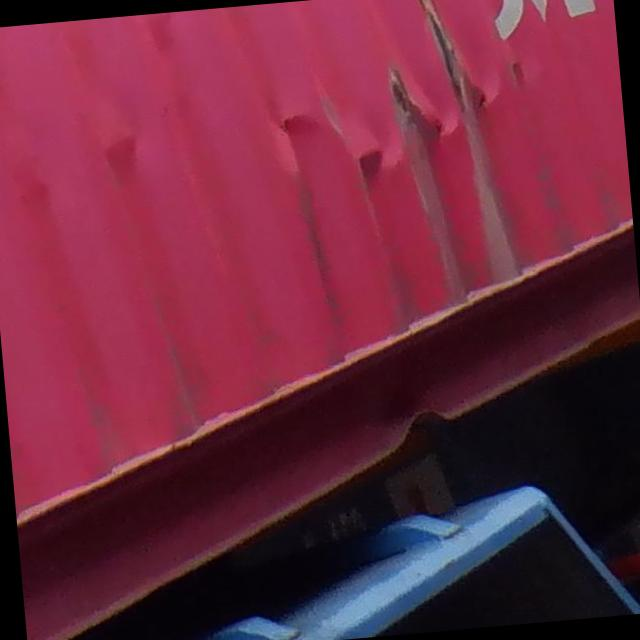Deframe_or_Dent: (173, 20, 582, 242)
